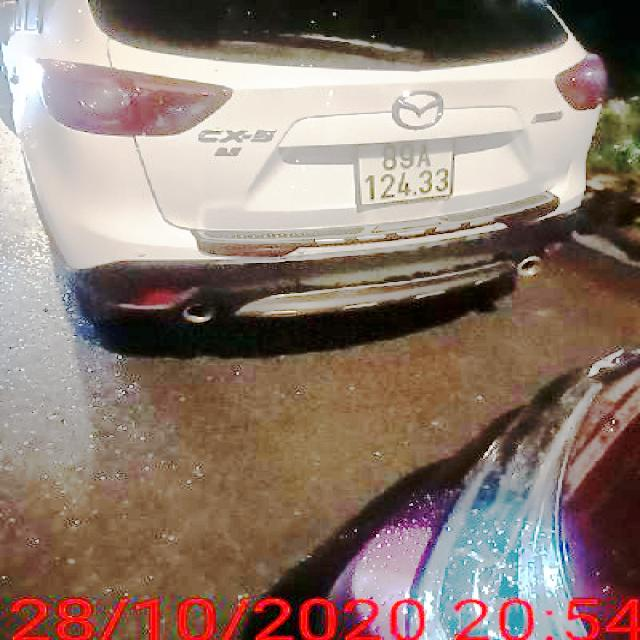license_plate: (355, 139, 456, 208)
